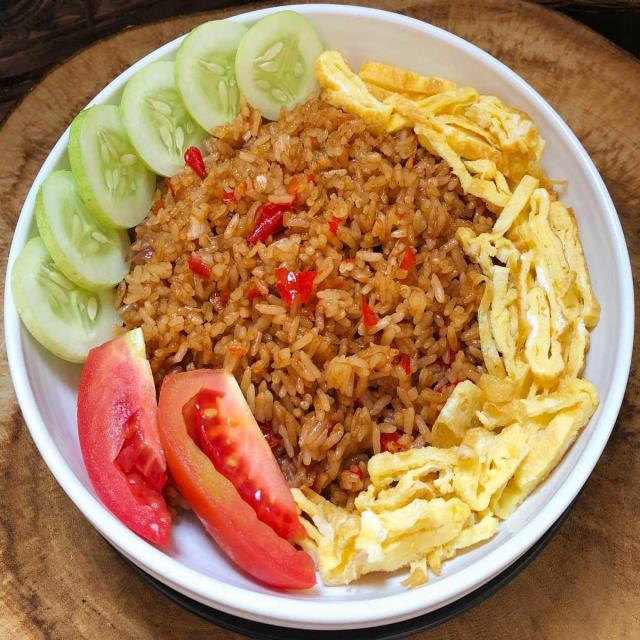Nasi Goreng: (100, 96, 538, 494)
